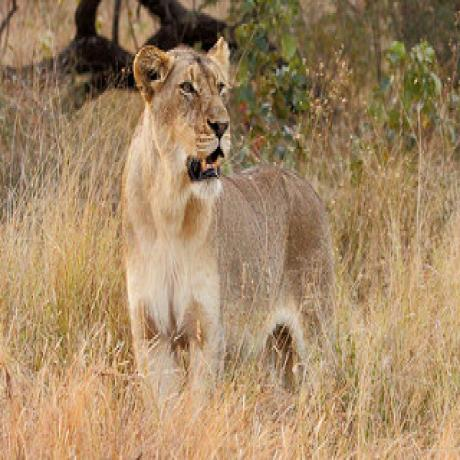Lion: (117, 31, 344, 408)
